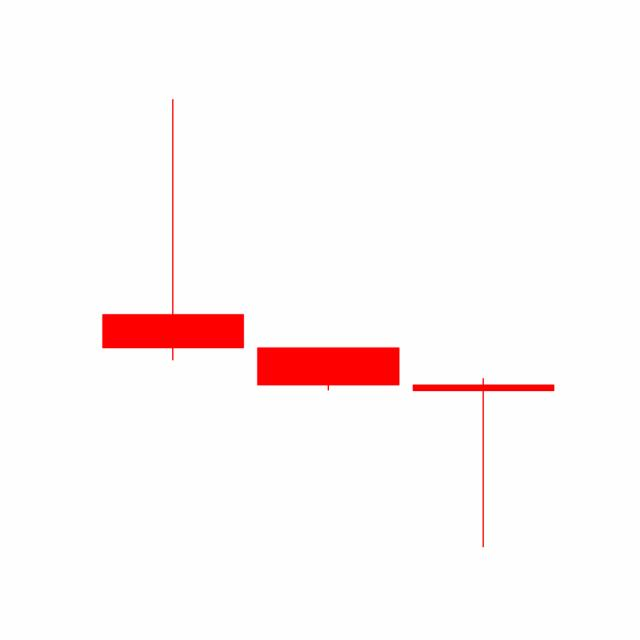Hammer: (405, 376, 561, 549)
